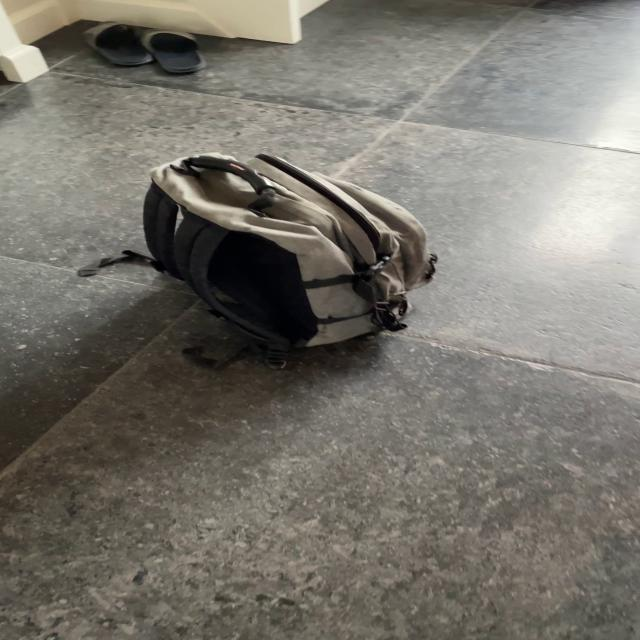backpack: (122, 147, 450, 368)
